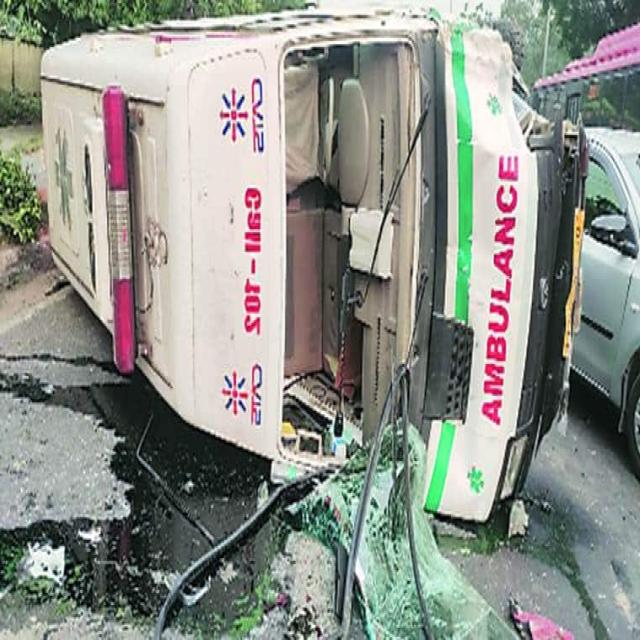accident: (41, 13, 588, 637)
